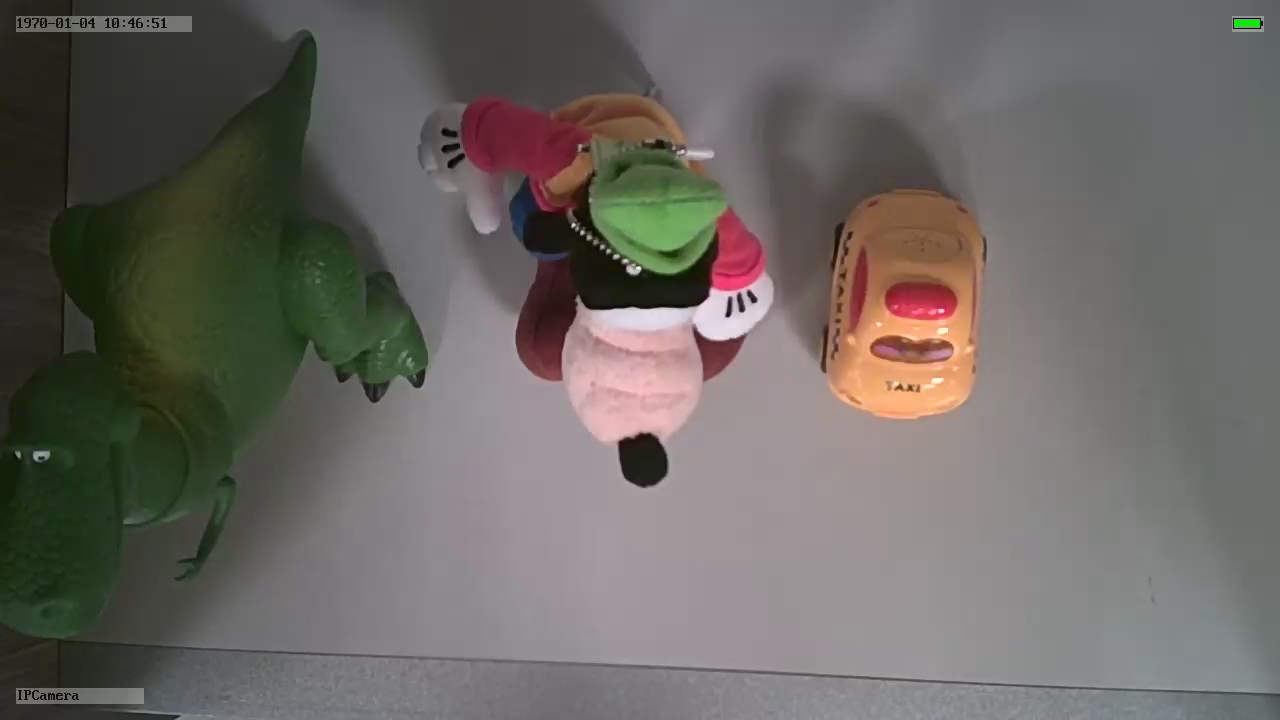goofy: (413, 87, 768, 485)
